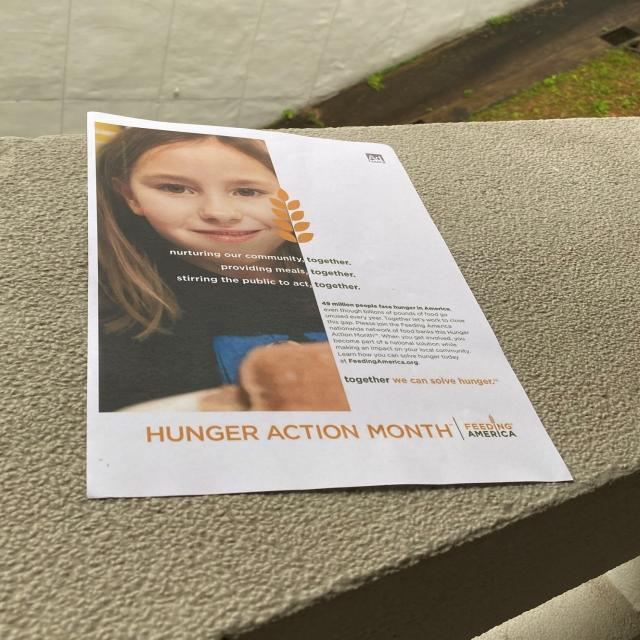document: (87, 112, 571, 498)
